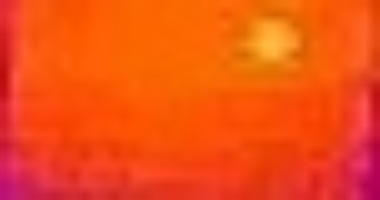Hotspot: (242, 11, 313, 72)
